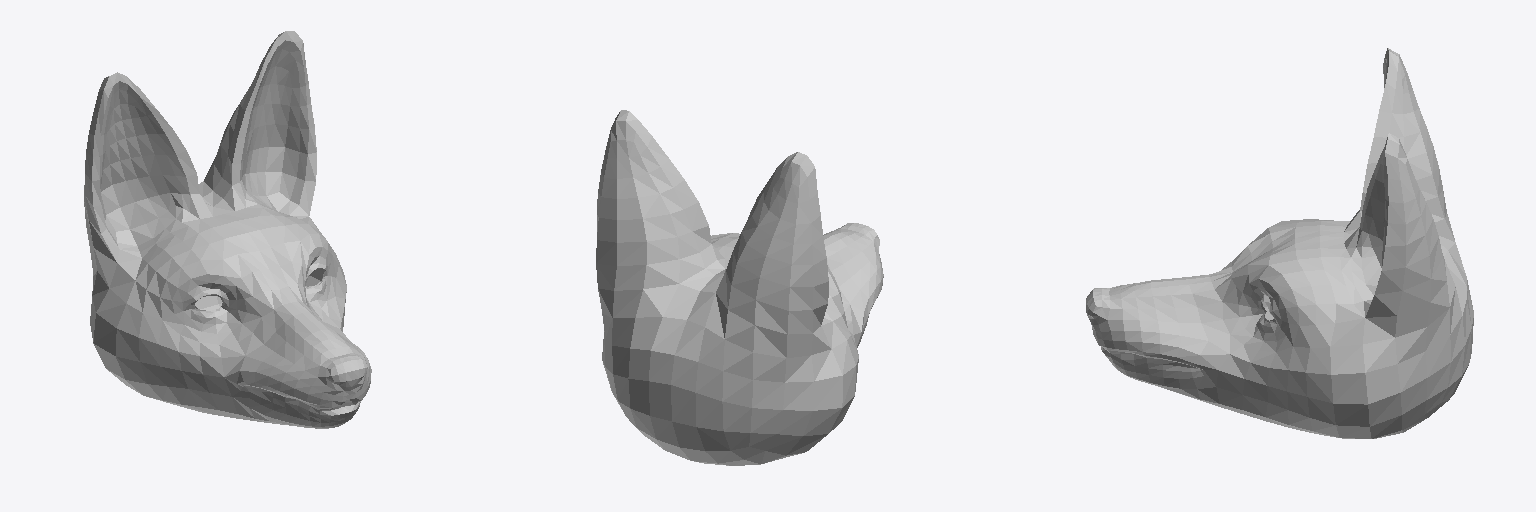
Rendered from mellaLoPoly.obj.
3 views of the same model, side by side, from view 1: azimuth 30°, elevation 25°; view 2: azimuth 150°, elevation 25°; view 3: azimuth 270°, elevation 25° (orthographic).
Parts seen in each view (by area): view 1: polySurface4; view 2: polySurface4; view 3: polySurface4.
Boxes of the visible parts, <box> form: polySurface4: <box>84,31,371,428</box>; polySurface4: <box>596,110,883,465</box>; polySurface4: <box>1086,48,1473,438</box>.
Bounding box in the file's own units: 21.19 × 28.1 × 30.06.